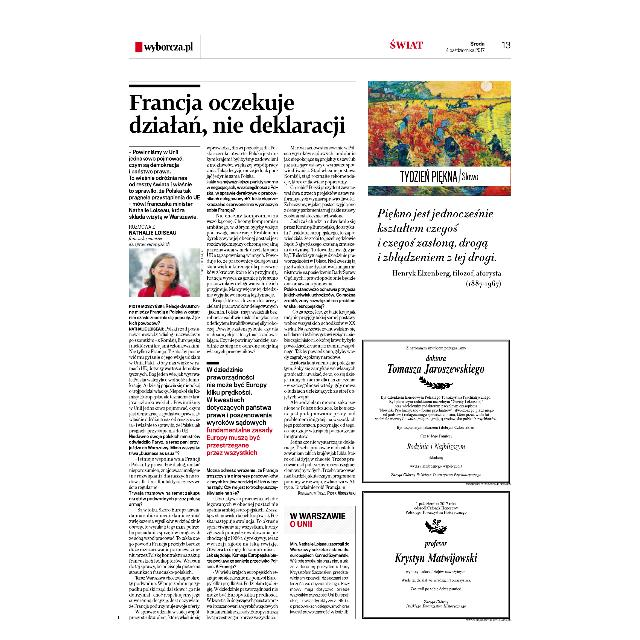article: (128, 81, 360, 624)
